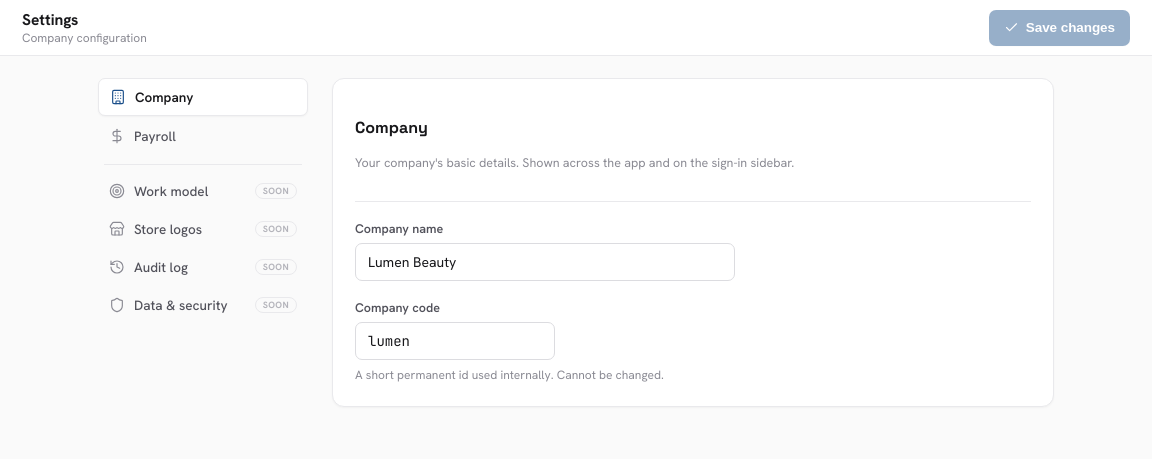
Test: Settings page › shows the company name and the payroll switch
Expected: the field showing "Lumen Beauty" is shown, top-left (355, 243), bottom-right (735, 281)
Click the button "Payroll" at (203, 136), box top-left (98, 118), bottom-right (308, 154)
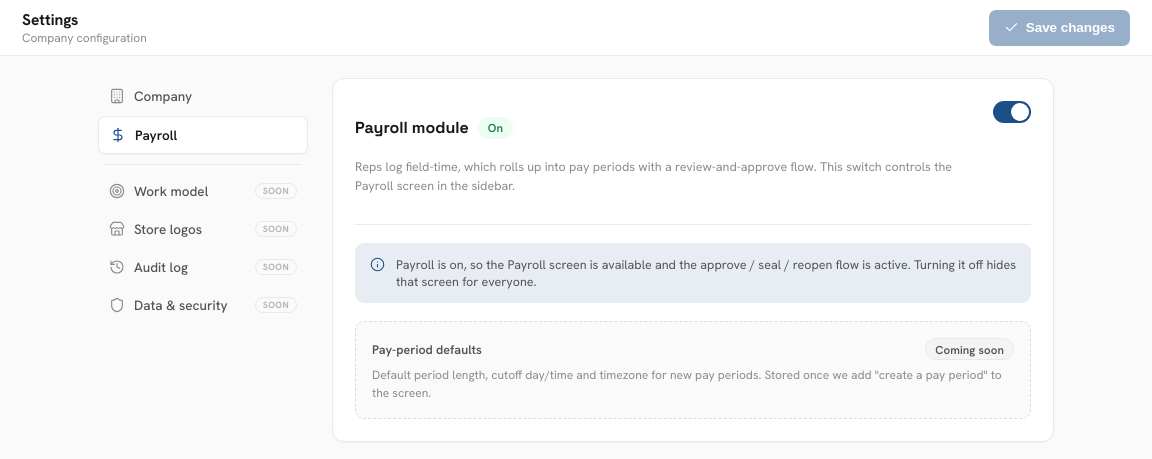
Result: the switch named "payroll enabled" is shown at top-left (993, 101), bottom-right (1031, 123)
